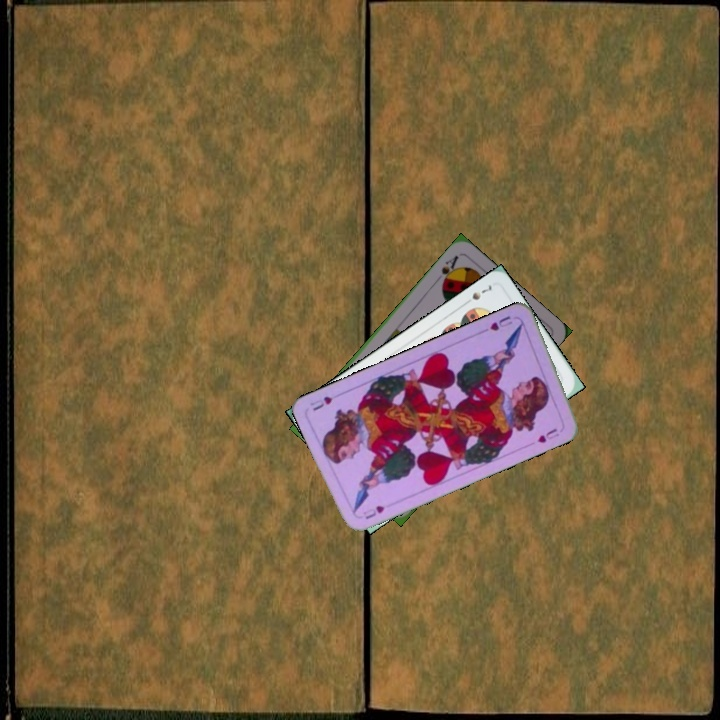HU: (479, 312, 515, 335), (359, 501, 388, 522)
S7: (459, 281, 495, 308)
SA: (437, 251, 461, 289)
